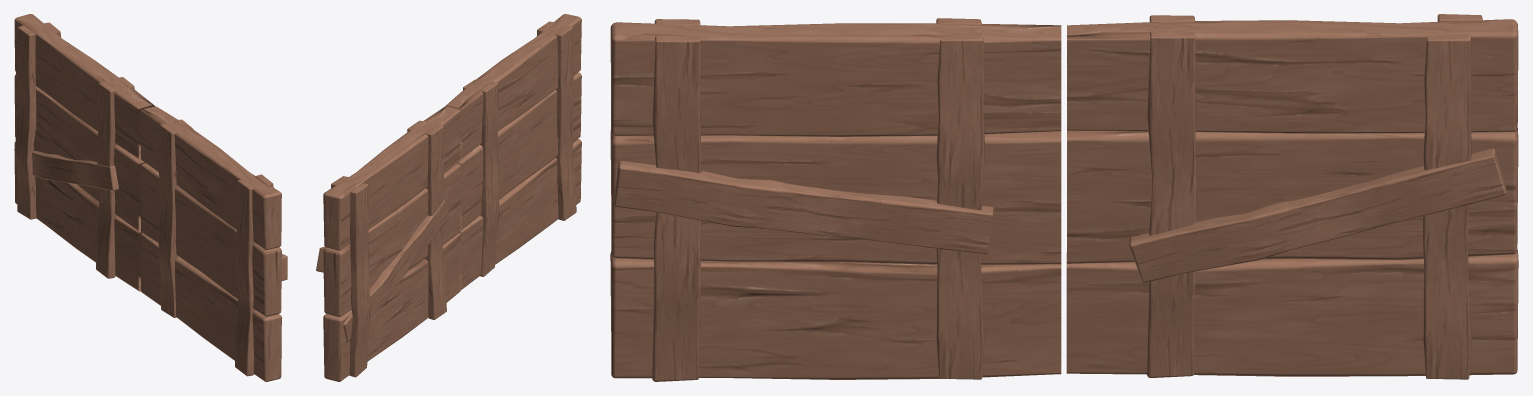
File: SM_Plank_02.fbx
3 views of the same model, side by side, from view 1: azimuth 30°, elevation 25°; view 2: azimuth 150°, elevation 25°; view 3: azimuth 270°, elevation 25° (orthographic). The views are drawn at different scales.
Visible parts, largest first — view 1: SM_Plank_02; view 2: SM_Plank_02; view 3: SM_Plank_02.
Part boxes in pixels (left/top/right/bottom): SM_Plank_02: left=14, top=14, right=287, bottom=381; SM_Plank_02: left=316, top=14, right=581, bottom=381; SM_Plank_02: left=610, top=14, right=1518, bottom=381.
Size of the model in its own units: 62.32 by 633 by 266.
2 materials, 2 textured.
